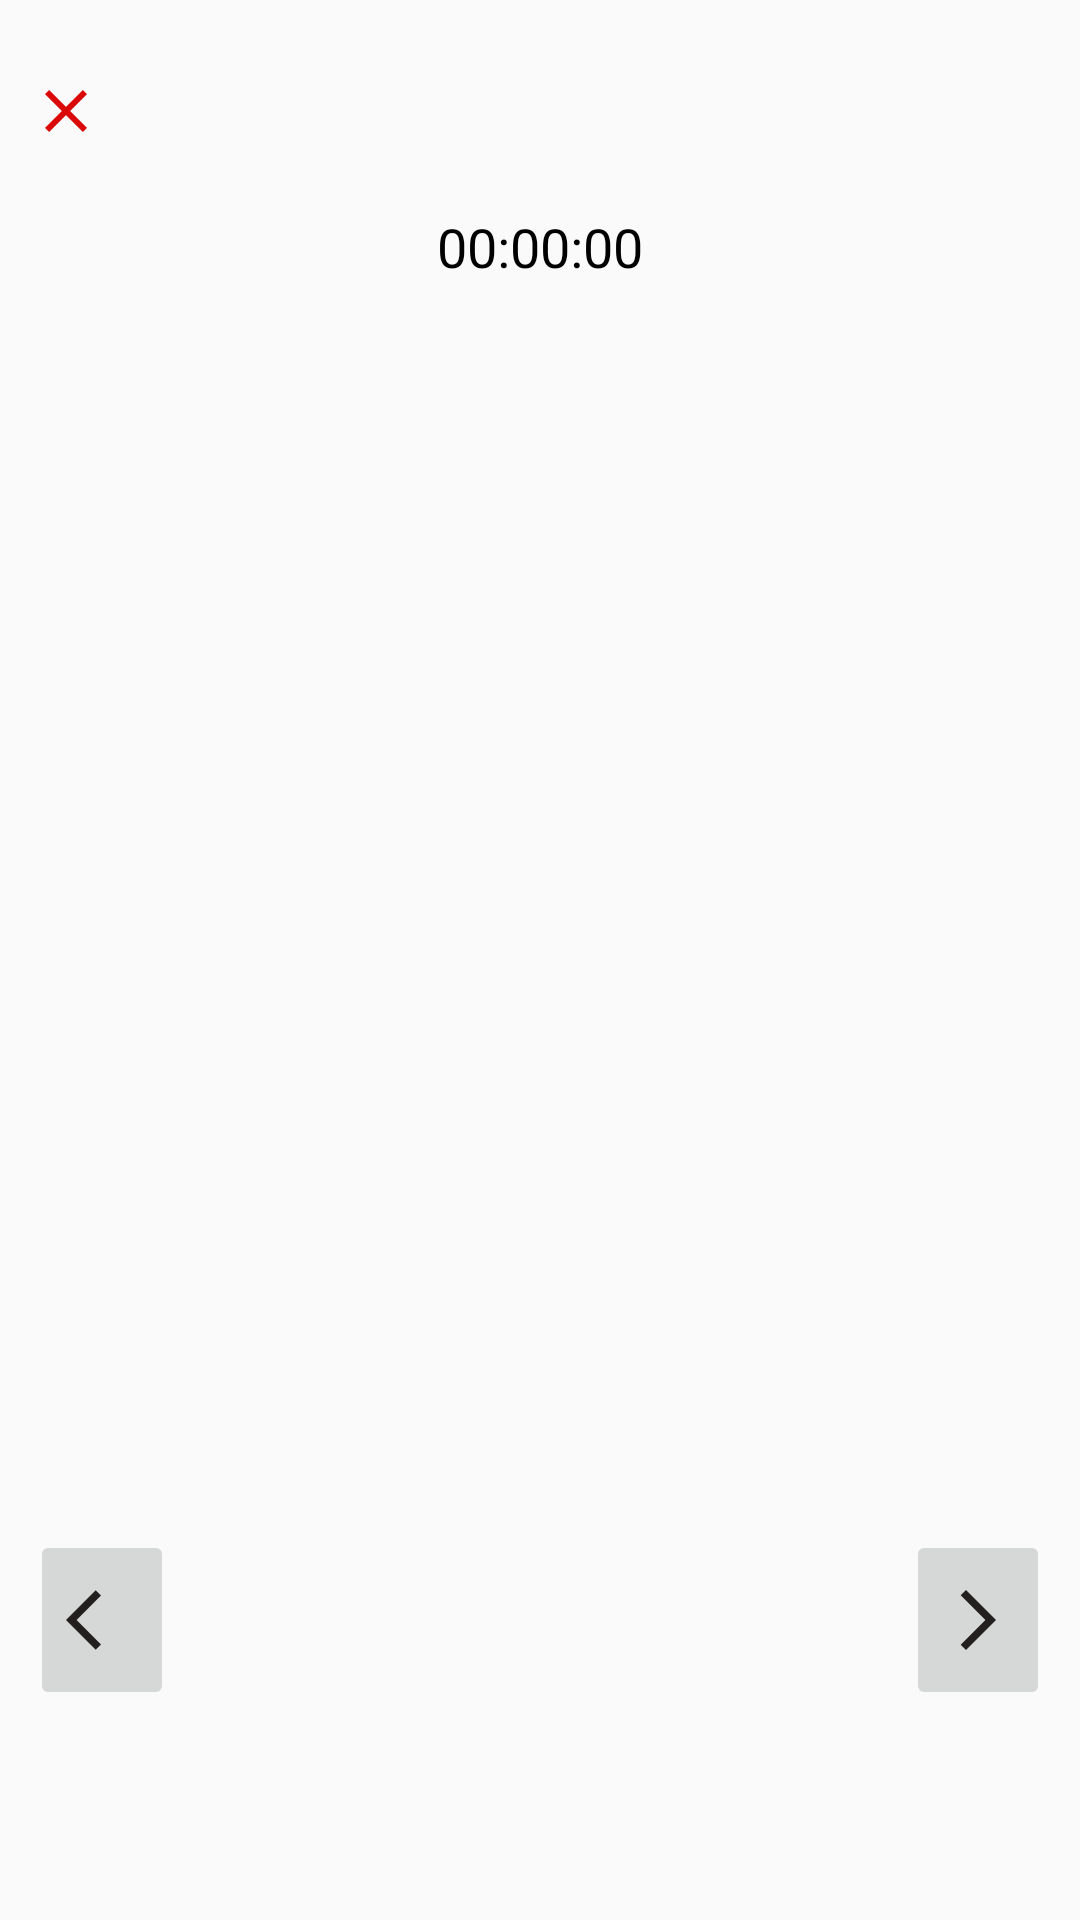

Locate icon controls on the screen. Image size 1080 × 1920, boxes as bbox=(x1, y1, x2, y2).
arrow back: bbox=(42, 1548, 162, 1692)
arrow forwardd: bbox=(918, 1548, 1038, 1692)
close: bbox=(45, 90, 87, 132)
